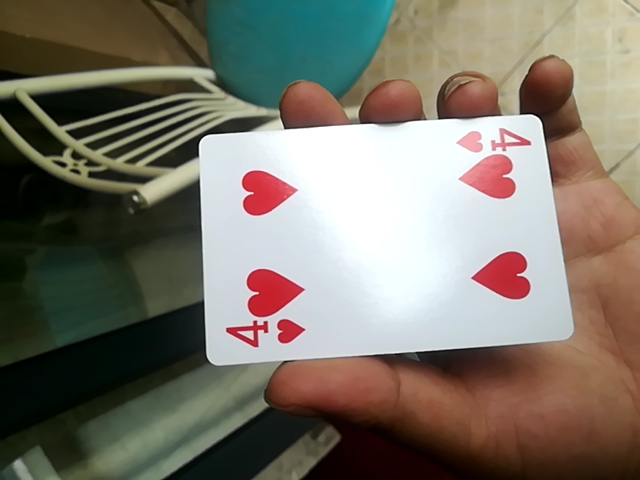hx 4: (192, 114, 566, 367)
